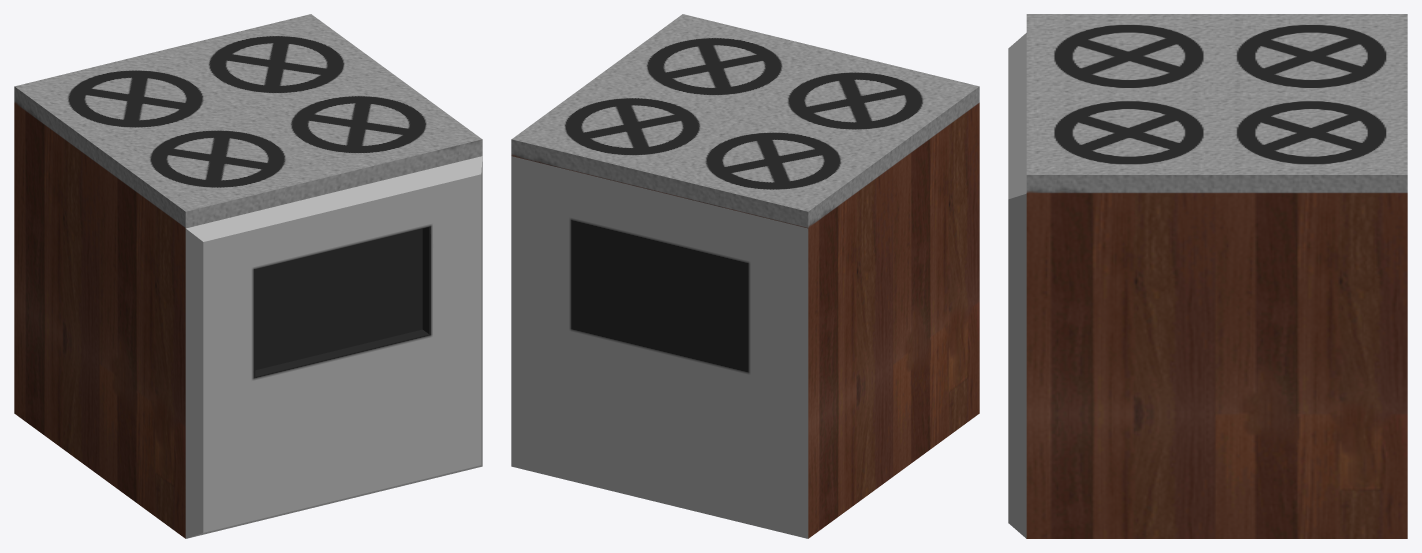
Rendered from stoveFBX.fbx.
3 views of the same model, side by side, from view 1: azimuth 30°, elevation 25°; view 2: azimuth 150°, elevation 25°; view 3: azimuth 270°, elevation 25° (orthographic). The views are drawn at different scales.
Parts seen in each view (by area): view 1: pCube1; view 2: pCube1; view 3: pCube1.
Part boxes in pixels (left/top/right/bottom): pCube1: left=14, top=14, right=482, bottom=538; pCube1: left=511, top=14, right=979, bottom=538; pCube1: left=1008, top=14, right=1407, bottom=538.
Bounding box in the file's own units: 3.4 × 3.59 × 3.57.
1 material, 1 textured.
